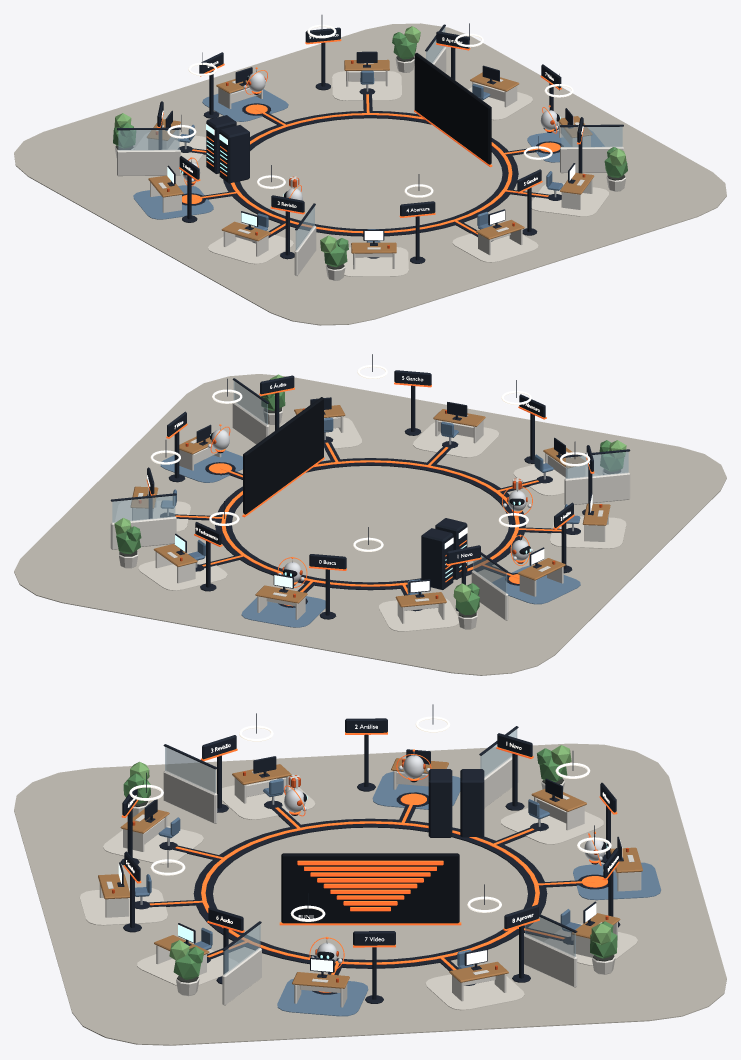
File: interior_F03.glb
3 views of the same model, one above another, from view 1: azimuth 30°, elevation 25°; view 2: azimuth 150°, elevation 25°; view 3: azimuth 270°, elevation 25° (orthographic). The views are drawn at different scales.
Visible parts, largest first — view 1: AR_TorreHZK_F03_PisoAcab, AR_TorreHZK_F03_Painel, AR_TorreHZK_F03_AnelBase, AR_TorreHZK_F03_Divisoria_44, AR_TorreHZK_F03_Divisoria_46, AR_TorreHZK_F03_Servidor0, AR_TorreHZK_F03_AnelLuz, AR_TorreHZK_F03_Tapete_39, AR_TorreHZK_F03_Tapete_18, AR_TorreHZK_F03_Tapete_22, AR_TorreHZK_F03_Tapete_14, AR_TorreHZK_F03_Ramais (+30 smaller); view 2: AR_TorreHZK_F03_PisoAcab, AR_TorreHZK_F03_Painel, AR_TorreHZK_F03_AnelBase, AR_TorreHZK_F03_Divisoria_45, AR_TorreHZK_F03_Divisoria_47, AR_TorreHZK_F03_Ramais, AR_TorreHZK_F03_Divisoria_46, AR_TorreHZK_F03_Servidor1, AR_TorreHZK_F03_Divisoria_44, AR_TorreHZK_F03_AnelLuz, AR_TorreHZK_F03_Tapete_5, AR_TorreHZK_F03_Tapete_0 (+31 smaller); view 3: AR_TorreHZK_F03_PisoAcab, AR_TorreHZK_F03_Painel, AR_TorreHZK_F03_AnelBase, AR_TorreHZK_F03_FunilBarras, AR_TorreHZK_F03_Divisoria_45, AR_TorreHZK_F03_Divisoria_47, AR_TorreHZK_F03_Ramais, AR_TorreHZK_F03_AnelLuz, AR_TorreHZK_F03_Divisoria_46, AR_TorreHZK_F03_Tapete_30, AR_TorreHZK_F03_Tapete_35, AR_TorreHZK_F03_Tapete_5 (+35 smaller).
Part boxes in pixels (x1,y1,x2,y2): AR_TorreHZK_F03_PisoAcab: [14, 23, 726, 325]; AR_TorreHZK_F03_Painel: [414, 53, 491, 164]; AR_TorreHZK_F03_AnelBase: [223, 111, 518, 236]; AR_TorreHZK_F03_Divisoria_44: [117, 127, 180, 176]; AR_TorreHZK_F03_Divisoria_46: [560, 124, 623, 173]; AR_TorreHZK_F03_Servidor0: [219, 125, 249, 183]; AR_TorreHZK_F03_AnelLuz: [230, 113, 512, 233]; AR_TorreHZK_F03_Tapete_39: [332, 71, 402, 100]; AR_TorreHZK_F03_Tapete_18: [343, 247, 408, 276]; AR_TorreHZK_F03_Tapete_22: [452, 233, 538, 262]; AR_TorreHZK_F03_Tapete_14: [208, 235, 293, 264]; AR_TorreHZK_F03_Ramais: [190, 94, 549, 237]; AR_TorreHZK_F03_PisoAcab: [14, 374, 726, 675]; AR_TorreHZK_F03_Painel: [243, 397, 323, 514]; AR_TorreHZK_F03_AnelBase: [215, 458, 525, 590]; AR_TorreHZK_F03_Divisoria_45: [564, 449, 630, 505]; AR_TorreHZK_F03_Divisoria_47: [110, 493, 176, 549]; AR_TorreHZK_F03_Ramais: [175, 442, 561, 595]; AR_TorreHZK_F03_Divisoria_46: [232, 378, 269, 444]; AR_TorreHZK_F03_Servidor1: [421, 528, 453, 589]; AR_TorreHZK_F03_Divisoria_44: [471, 552, 508, 620]; AR_TorreHZK_F03_AnelLuz: [221, 460, 519, 586]; AR_TorreHZK_F03_Tapete_5: [379, 598, 459, 631]; AR_TorreHZK_F03_Tapete_0: [241, 596, 325, 627]; AR_TorreHZK_F03_PisoAcab: [14, 743, 726, 1045]; AR_TorreHZK_F03_Painel: [281, 853, 459, 923]; AR_TorreHZK_F03_AnelBase: [193, 818, 547, 968]; AR_TorreHZK_F03_FunilBarras: [297, 860, 443, 911]; AR_TorreHZK_F03_Divisoria_45: [163, 744, 217, 823]; AR_TorreHZK_F03_Divisoria_47: [523, 907, 577, 987]; AR_TorreHZK_F03_Ramais: [148, 799, 594, 975]; AR_TorreHZK_F03_AnelLuz: [201, 821, 539, 964]; AR_TorreHZK_F03_Divisoria_46: [222, 921, 261, 1005]; AR_TorreHZK_F03_Tapete_30: [277, 978, 368, 1016]; AR_TorreHZK_F03_Tapete_35: [425, 974, 524, 1010]; AR_TorreHZK_F03_Tapete_5: [501, 808, 603, 844].
Bounding box in the file's own units: 22.39 × 3.33 × 22.39.
